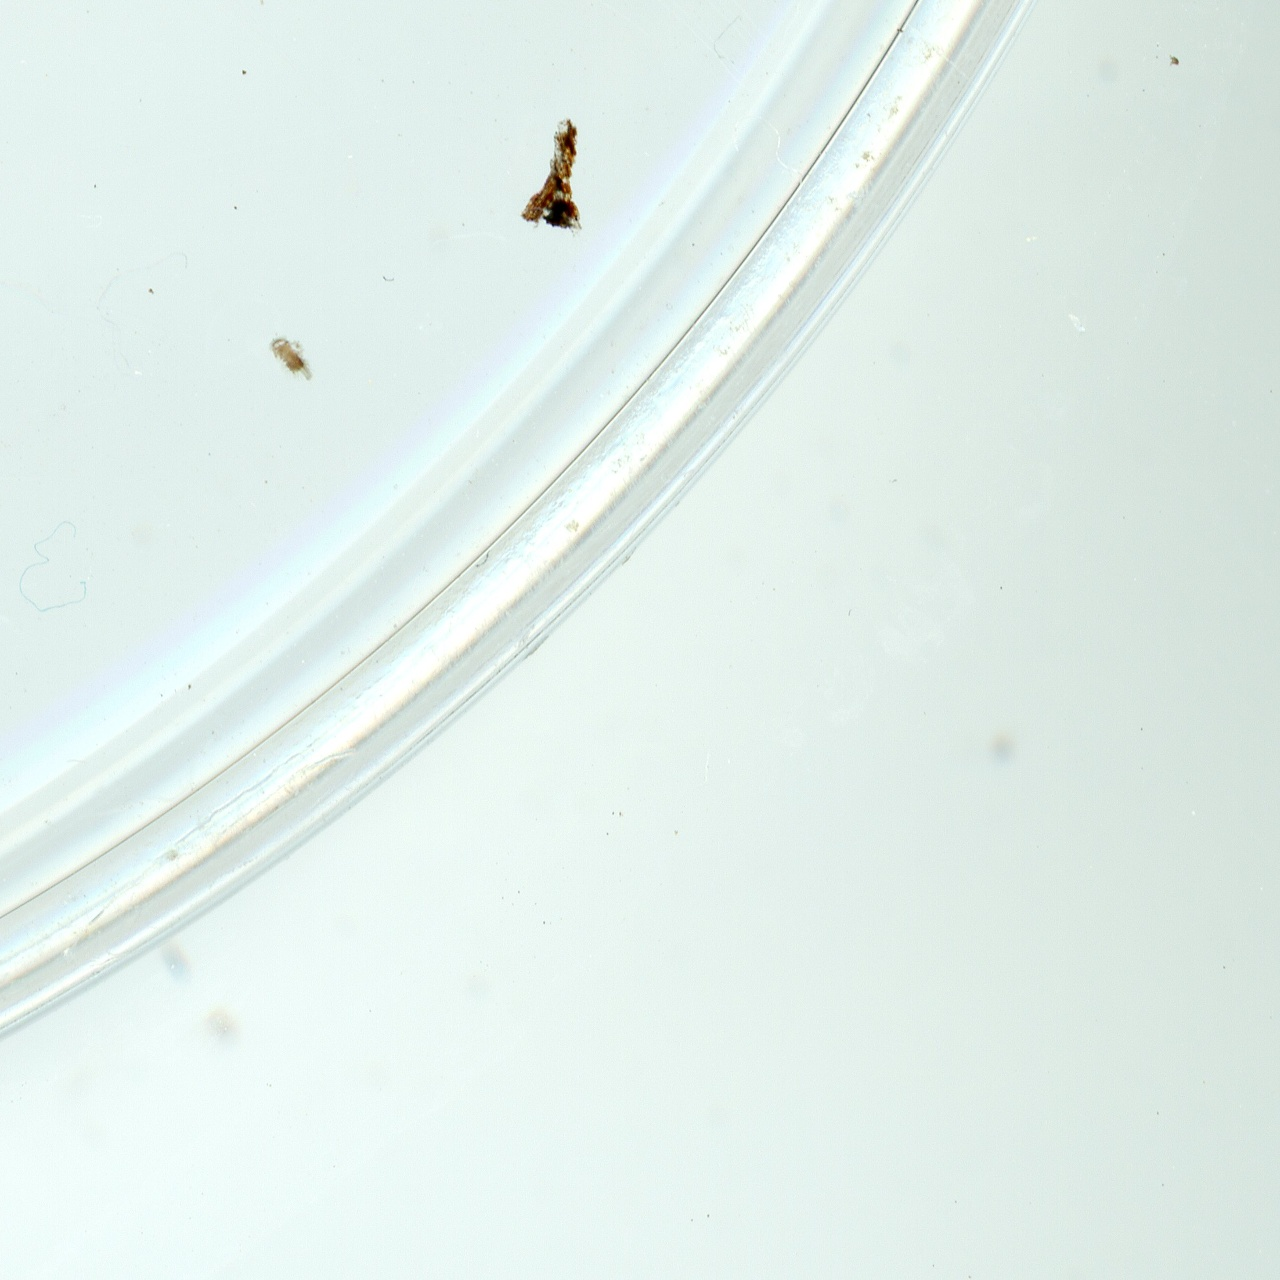arthropod: (264, 326, 324, 393)
